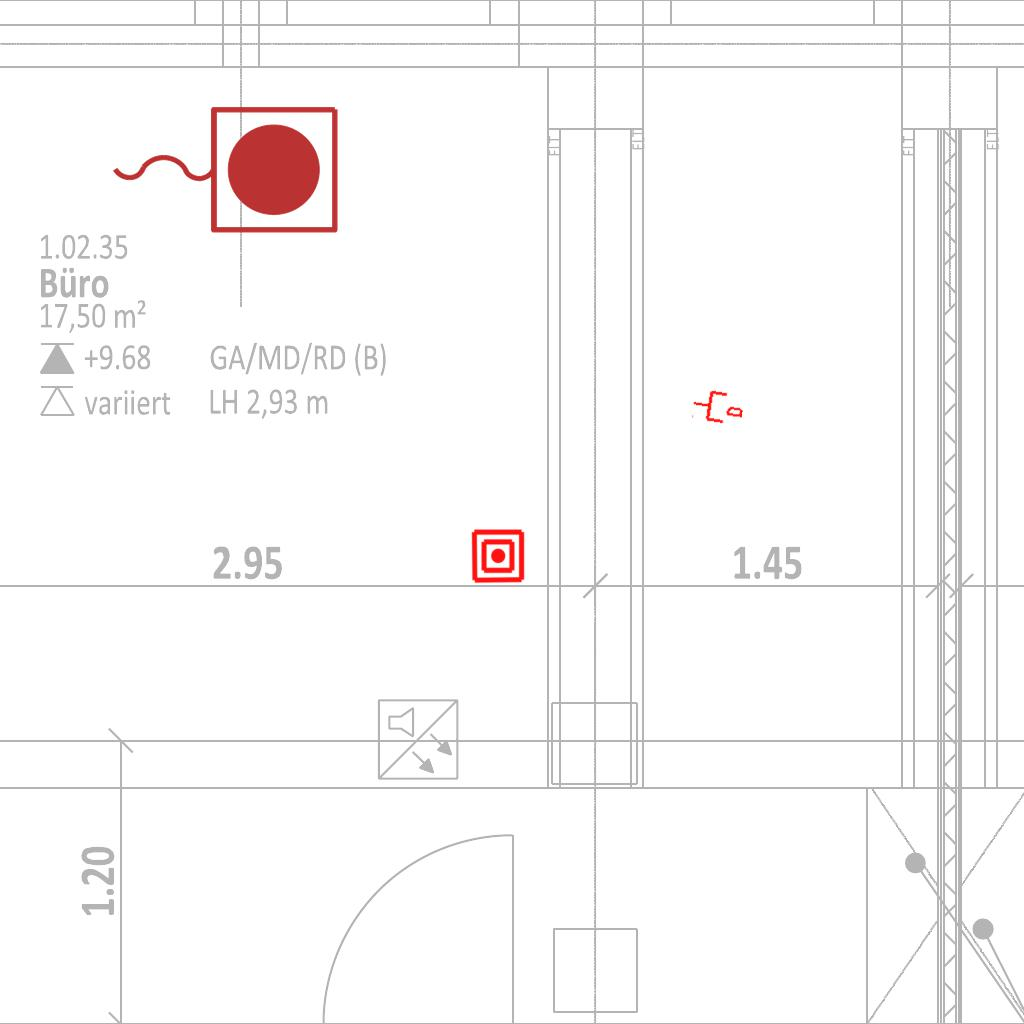Datenanschluss_einfach: (690, 386, 746, 428)
NAM-Nichtautomatischer_Melder: (470, 528, 526, 584)
Zugtaster: (102, 96, 346, 240)
